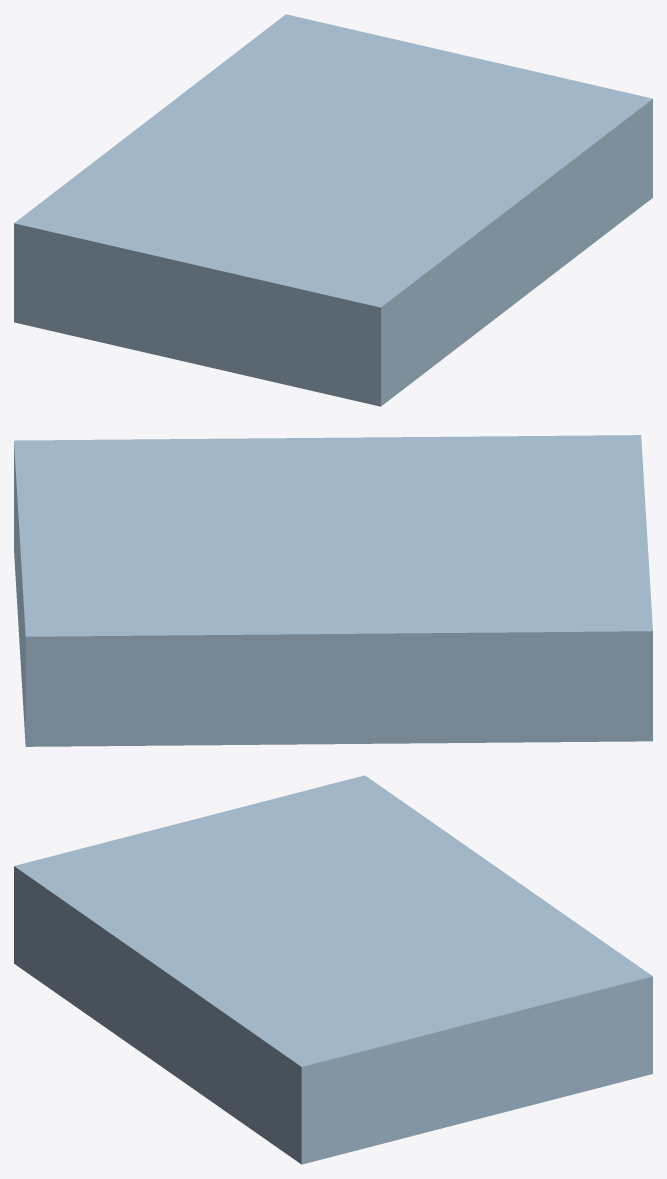
The model's file is osm_way_223859852.glb.
The picture shows the model from 3 angles, top to bottom: view 1: azimuth 30°, elevation 25°; view 2: azimuth 150°, elevation 25°; view 3: azimuth 270°, elevation 25°; orthographic projection. The views are drawn at different scales.
Visible parts, largest first — view 1: osm_way_223859852; view 2: osm_way_223859852; view 3: osm_way_223859852.
Boxes of the visible parts, x1,y1,x2,y2 form: osm_way_223859852: [14, 14, 652, 406]; osm_way_223859852: [14, 435, 652, 746]; osm_way_223859852: [14, 775, 652, 1164].
Bounding box in the file's own units: 25.64 × 4 × 23.73.
